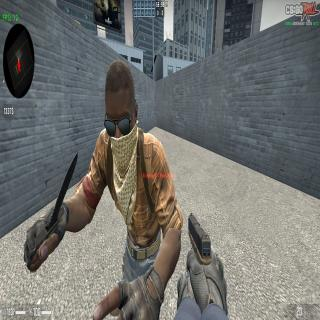T-Body: (24, 60, 184, 320)
T-Head: (104, 59, 138, 168)
